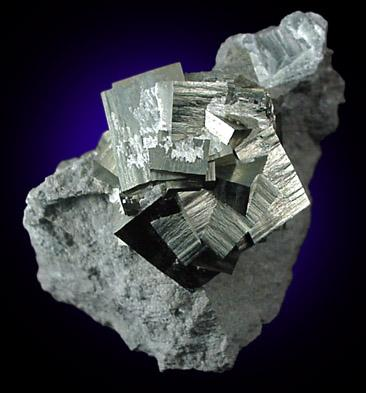pyrite: (102, 11, 328, 292)
